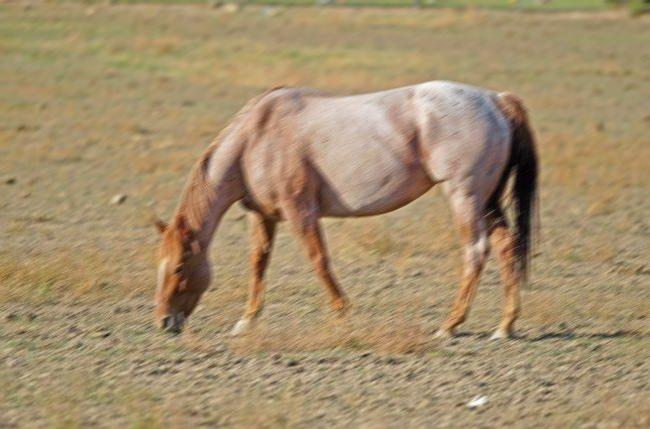horse: (151, 79, 542, 342)
